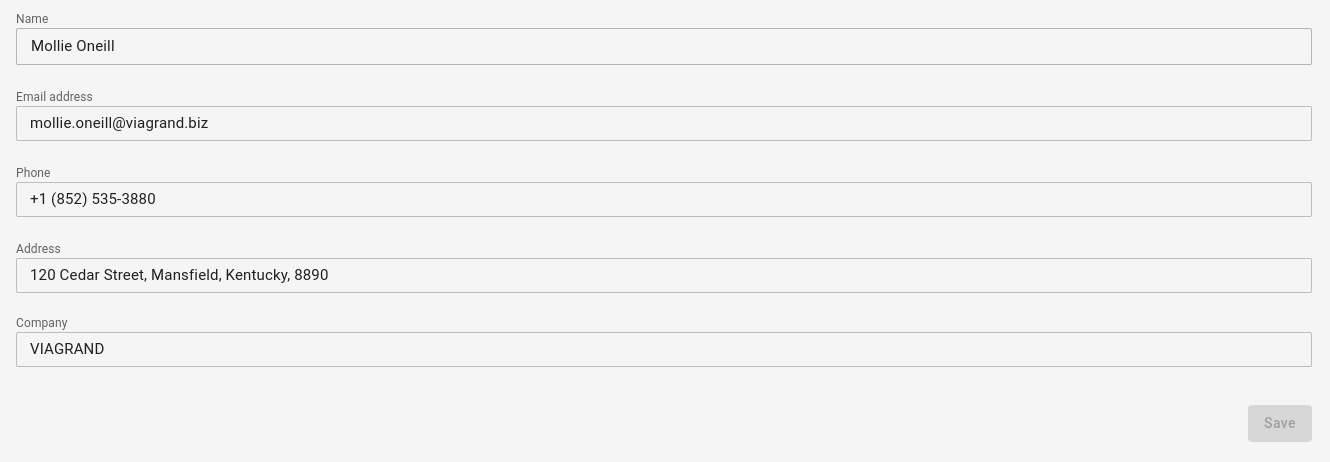
Scenario: Form › should check the email`s field functionality
Expected: the button with test id "save-btn" is disabled, x1=1248 y1=405 x2=1312 y2=442
Replace the text in the field with test id "email-field" with "js@gmail.com" at (664, 124), box x1=16 y1=106 x2=1312 y2=141
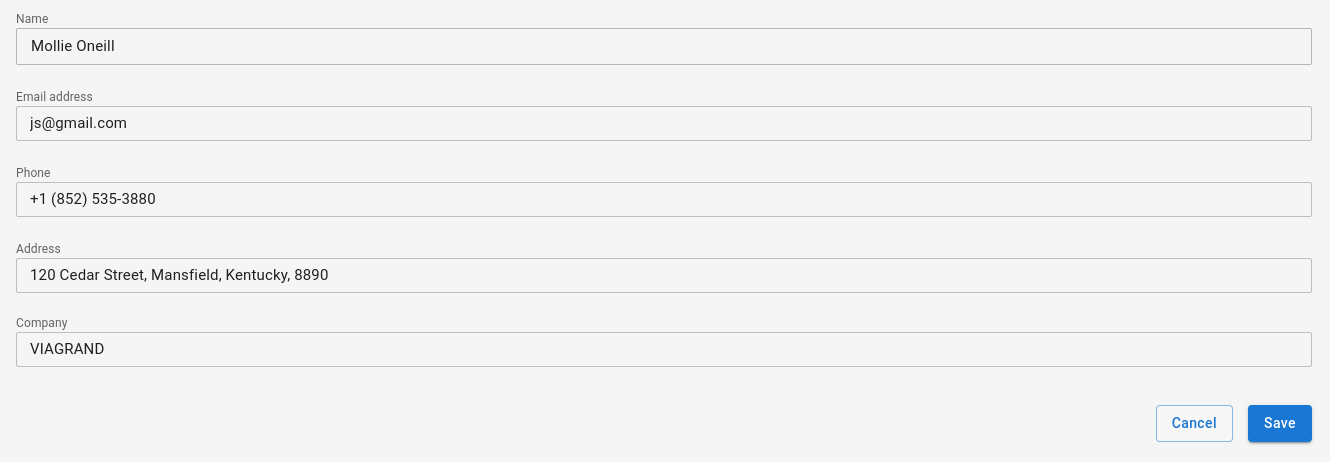
Expected: the button with test id "save-btn" is enabled, x1=1248 y1=405 x2=1312 y2=442
Expected: the button with test id "cancel-btn" is shown, x1=1156 y1=405 x2=1233 y2=442
